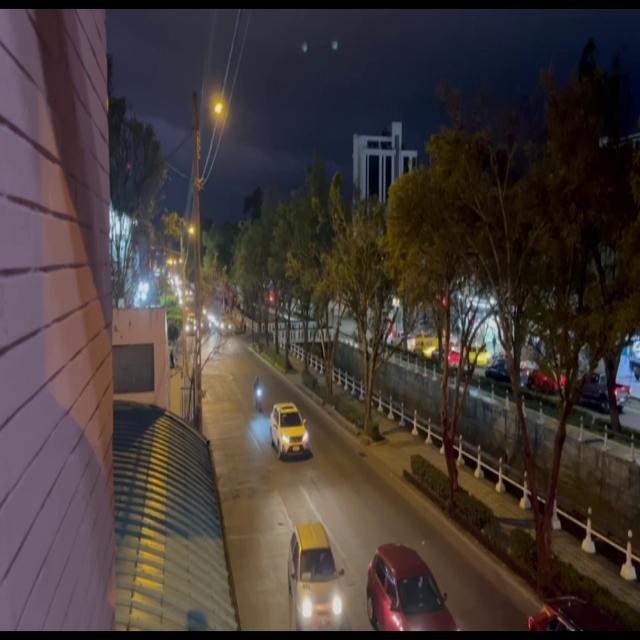MOTORCYCLE: (252, 371, 264, 414)
